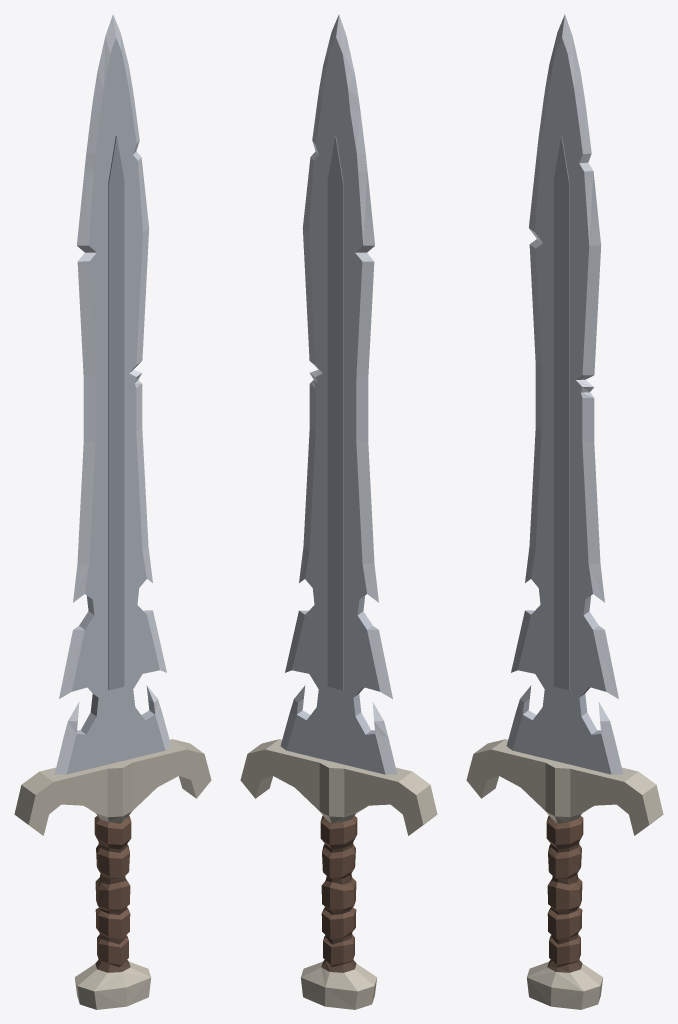
File: espada_larga.glb
3 views of the same model, side by side, from view 1: azimuth 30°, elevation 25°; view 2: azimuth 150°, elevation 25°; view 3: azimuth 330°, elevation 25° (orthographic).
Visible parts, largest first — view 1: espada_larga; view 2: espada_larga; view 3: espada_larga.
Boxes of the visible parts, bbox=[...] form: espada_larga: bbox=[14, 14, 211, 1009]; espada_larga: bbox=[240, 14, 437, 1009]; espada_larga: bbox=[466, 14, 663, 1009].
Size of the model in its own units: 1.21 by 6.23 by 0.3221.
